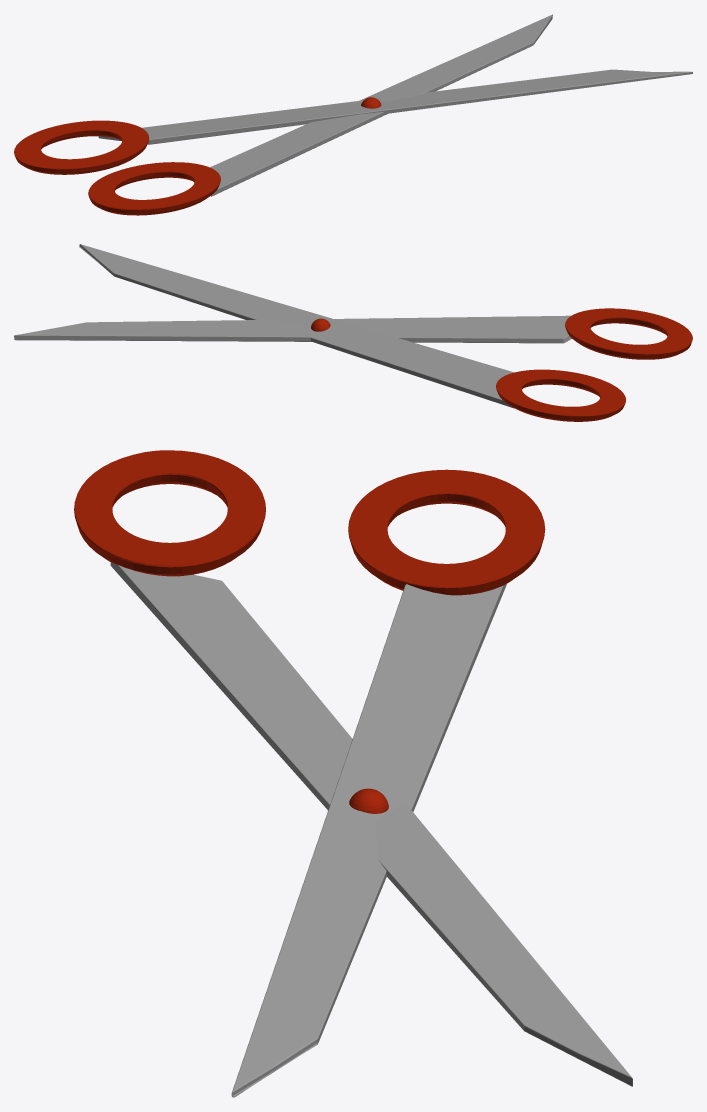
File: schaar.obj
The picture shows the model from 3 angles, top to bottom: view 1: azimuth 30°, elevation 25°; view 2: azimuth 150°, elevation 25°; view 3: azimuth 270°, elevation 25°; orthographic projection. The views are drawn at different scales.
Visible parts, largest first — view 1: Cube.001_Cube.014, Cube_Cube.002, Torus.002, Torus.001; view 2: Cube.001_Cube.014, Cube_Cube.002, Torus.002, Torus.001; view 3: Cube.001_Cube.014, Cube_Cube.002, Torus.002, Torus.001.
Part boxes in pixels (x1,y1,x2,y2): Cube.001_Cube.014: [98, 69, 692, 144]; Cube_Cube.002: [210, 14, 552, 196]; Torus.002: [14, 120, 149, 174]; Torus.001: [88, 162, 220, 215]; Cube.001_Cube.014: [79, 244, 514, 408]; Cube_Cube.002: [14, 315, 571, 343]; Torus.002: [496, 369, 625, 421]; Torus.001: [565, 308, 692, 359]; Cube.001_Cube.014: [231, 583, 506, 1097]; Cube_Cube.002: [110, 562, 632, 1086]; Torus.002: [348, 469, 545, 595]; Torus.001: [74, 450, 265, 576].
Bounding box in the file's own units: 2.23 × 0.1653 × 0.9068.
